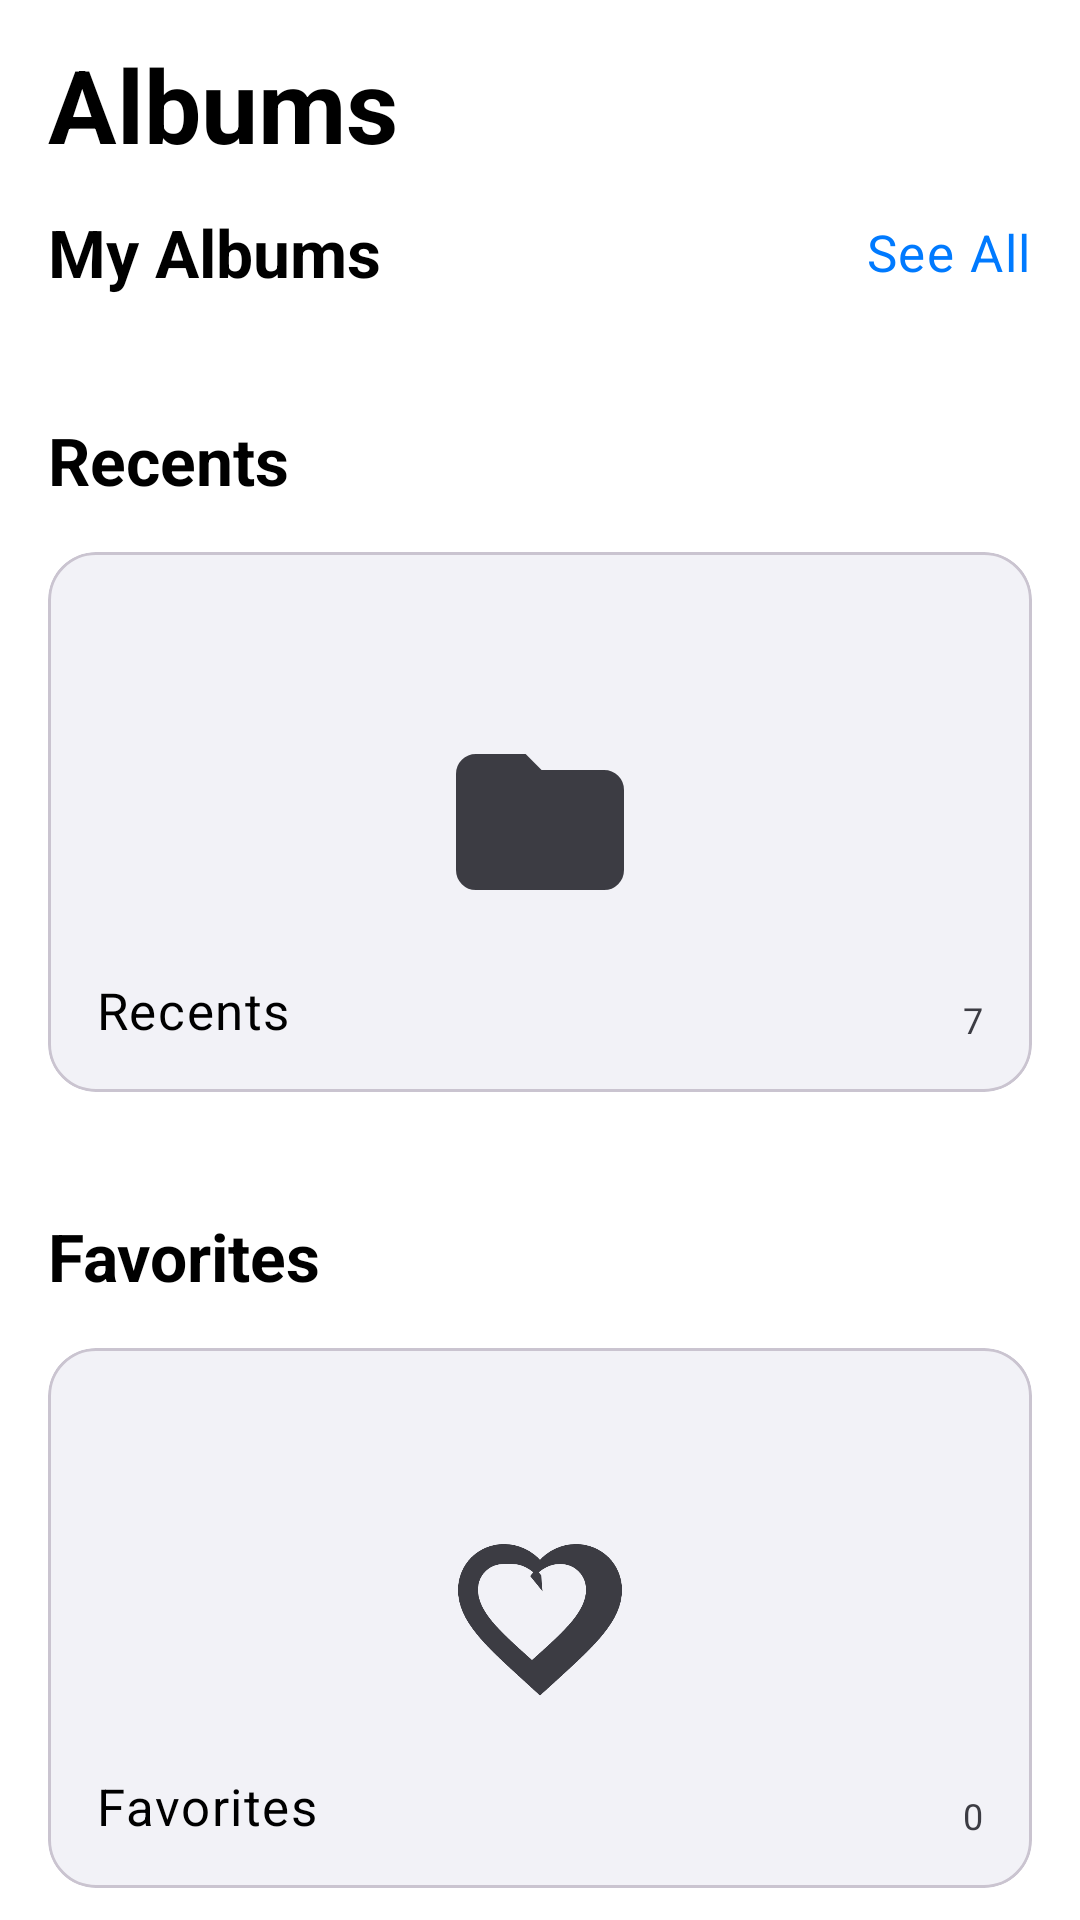

Point at icon controls on the screen. Image size 1080 x 1920, points as point (x, y).
heart: point (540, 1619)
